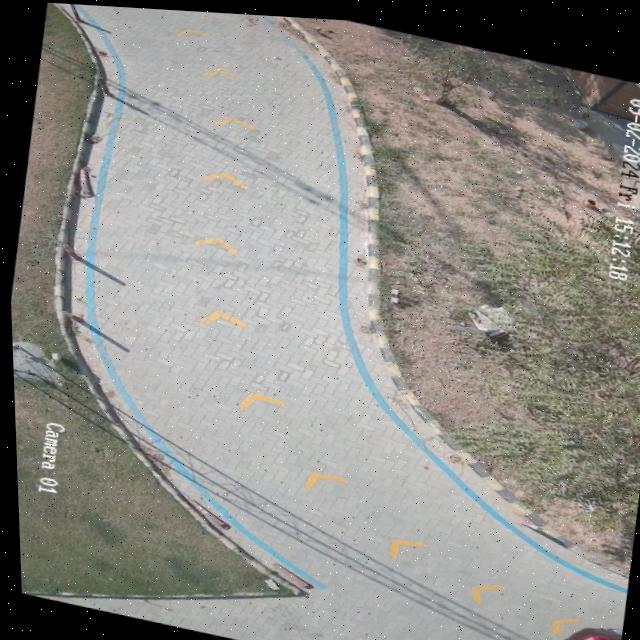car: (553, 621, 617, 640)
